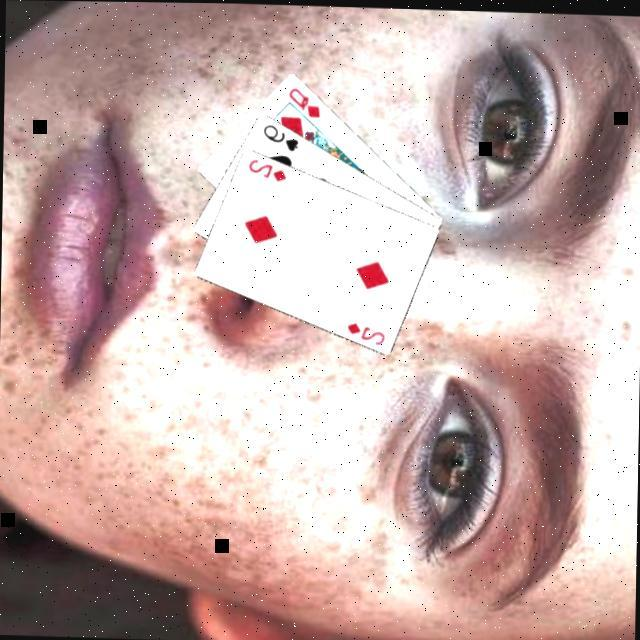2D: (246, 154, 291, 184), (345, 318, 389, 348)
9S: (260, 121, 303, 155)
QD: (286, 84, 326, 120)
